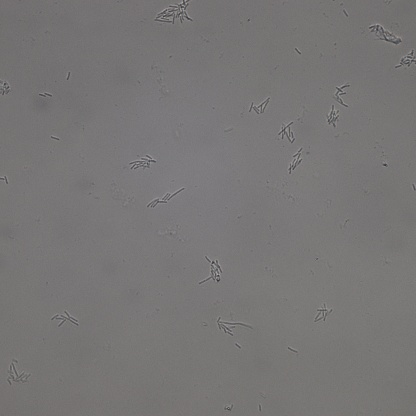R(colony): (154, 1, 193, 24), (147, 188, 185, 208), (369, 22, 401, 44), (217, 317, 253, 336), (7, 358, 31, 385), (200, 256, 223, 283), (51, 311, 79, 328), (129, 155, 156, 170), (288, 147, 303, 174), (279, 120, 296, 143), (315, 303, 333, 324), (395, 50, 416, 68), (334, 83, 349, 106), (326, 104, 340, 128), (249, 98, 269, 114)
